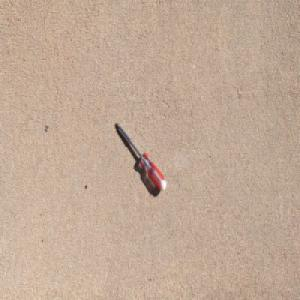Screwdriver: (114, 120, 168, 192)
